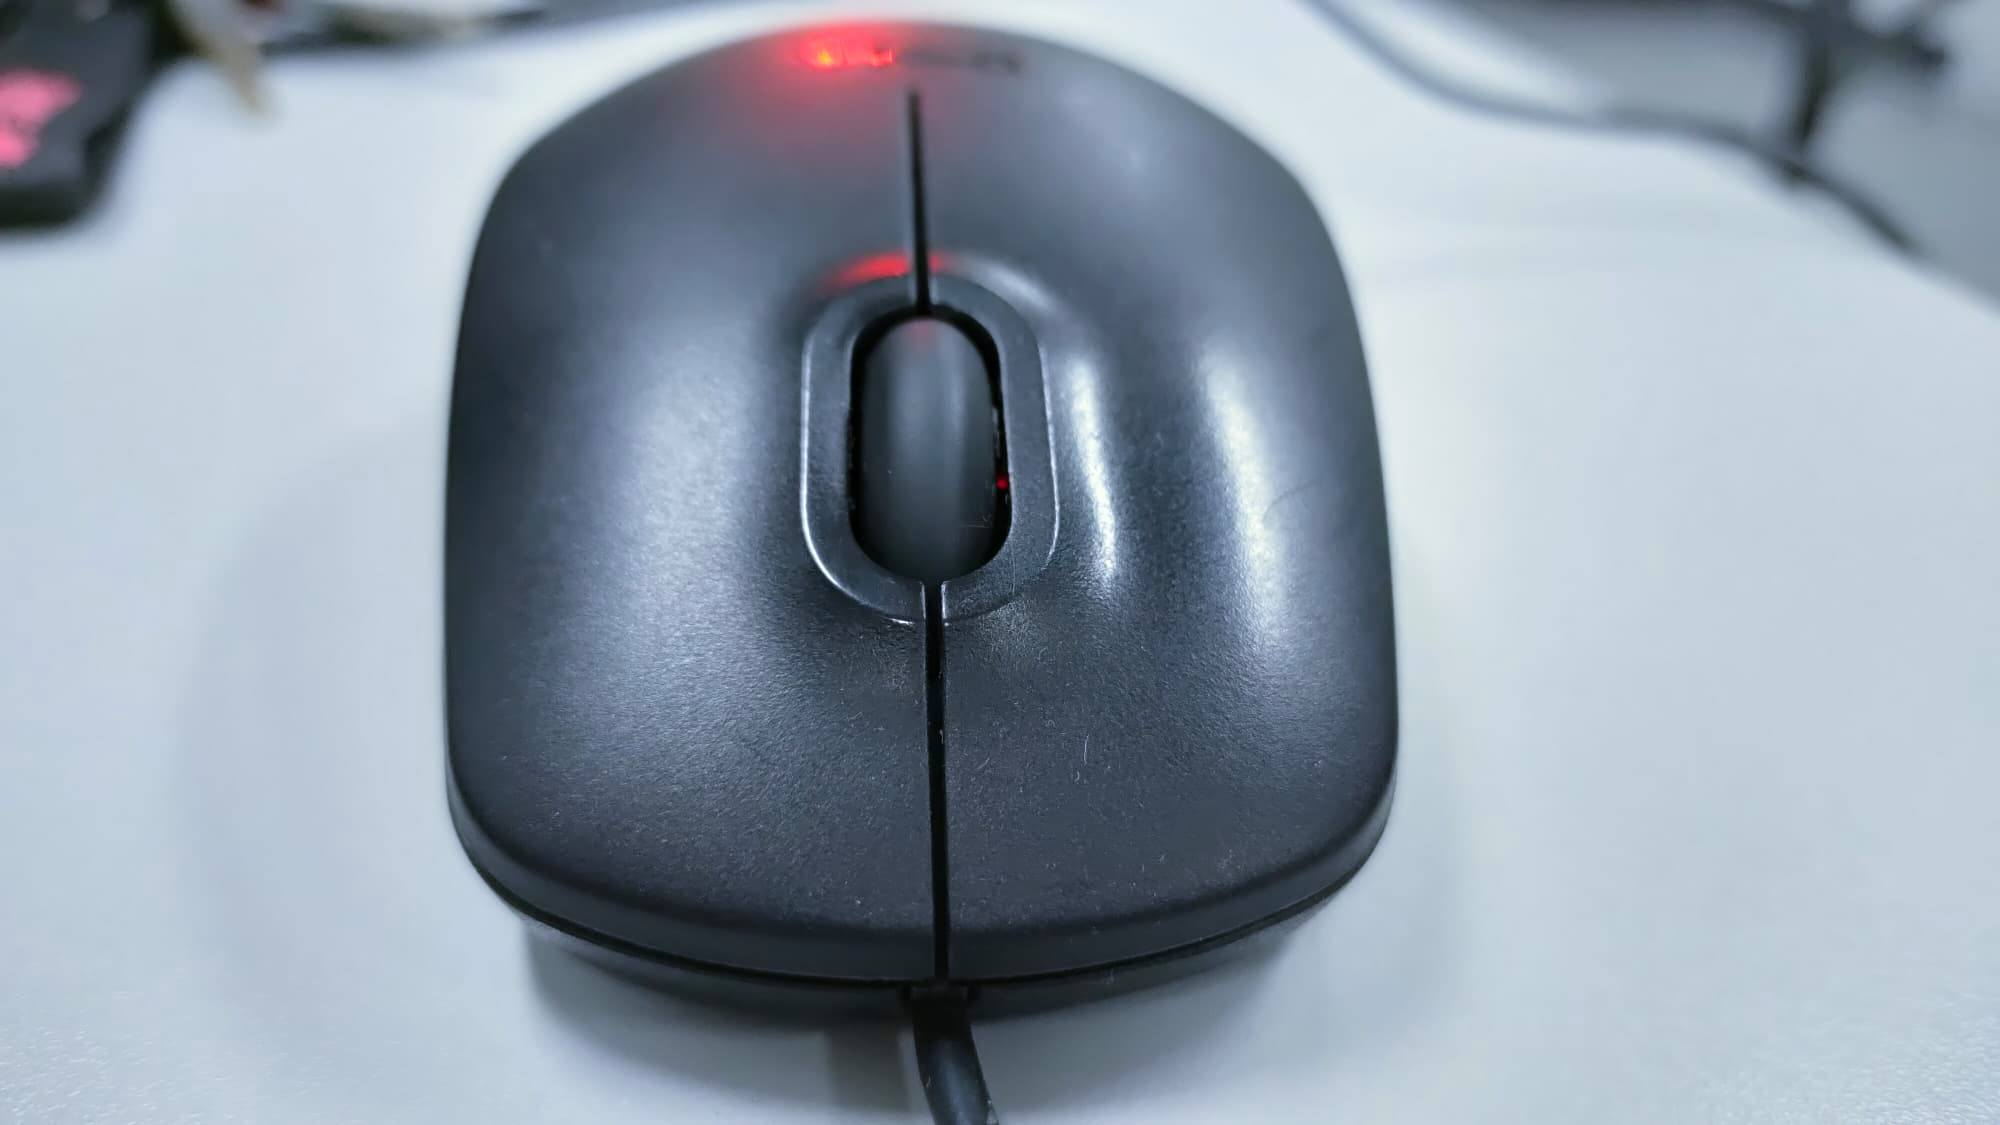mouse: (437, 5, 1467, 1032)
